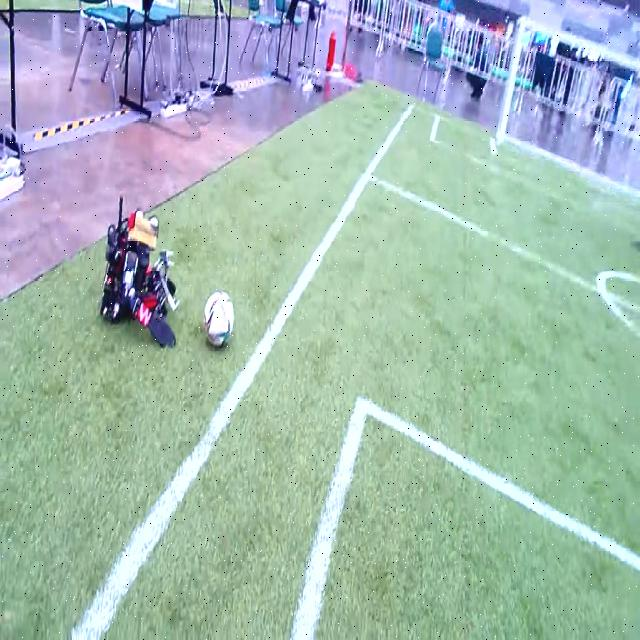ball: (204, 291, 234, 347)
